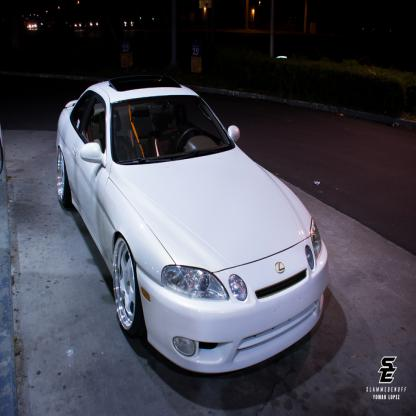Car: (56, 73, 328, 372)
